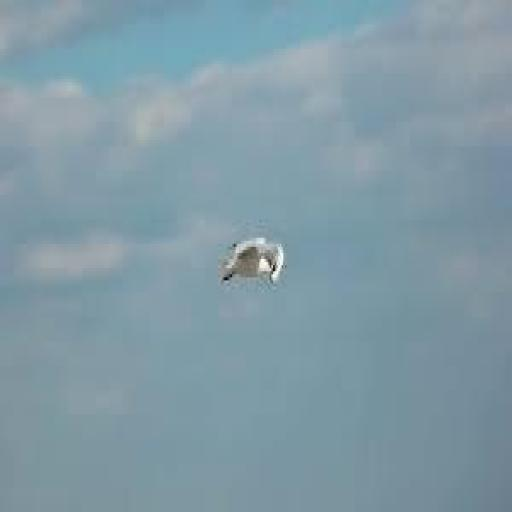birds: (215, 223, 288, 297)
